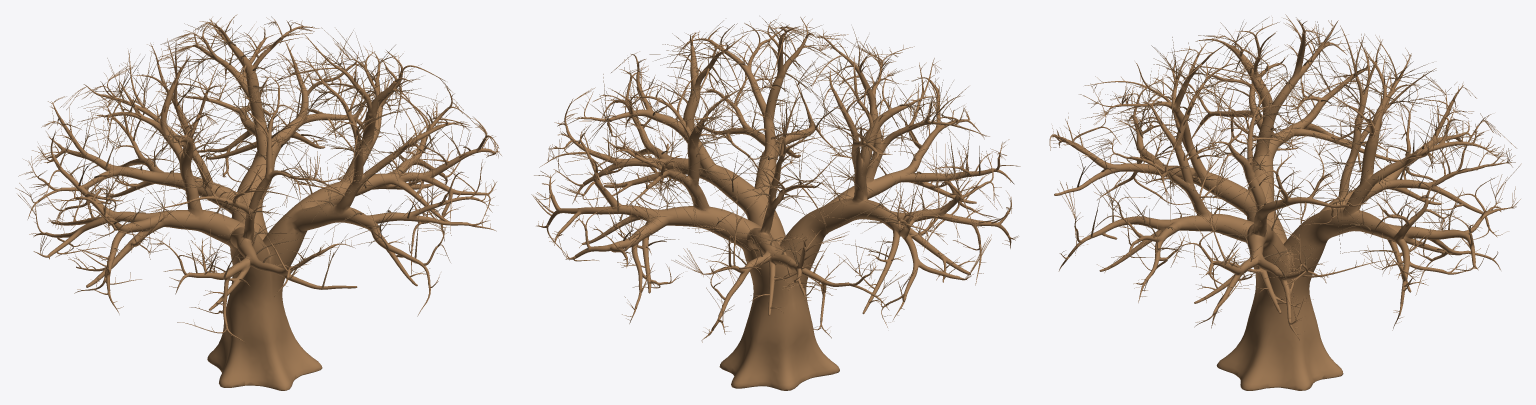
The model's file is tree-one.glb.
The picture shows the model from 3 angles, left to right: view 1: azimuth 30°, elevation 25°; view 2: azimuth 150°, elevation 25°; view 3: azimuth 270°, elevation 25°; orthographic projection.
Parts seen in each view (by area): view 1: part_00000, part_00001, part_00002; view 2: part_00000, part_00001, part_00002; view 3: part_00000, part_00001, part_00002.
Boxes of the visible parts, <box> form: part_00000: <box>45,27,491,390</box>; part_00001: <box>15,14,501,342</box>; part_00002: <box>58,20,470,288</box>; part_00000: <box>547,33,1009,390</box>; part_00001: <box>531,16,1020,342</box>; part_00002: <box>578,18,980,273</box>; part_00000: <box>1054,32,1498,390</box>; part_00001: <box>1049,14,1521,340</box>; part_00002: <box>1077,17,1481,278</box>.
Size of the model in its own units: 37.47 by 27.01 by 35.59.
